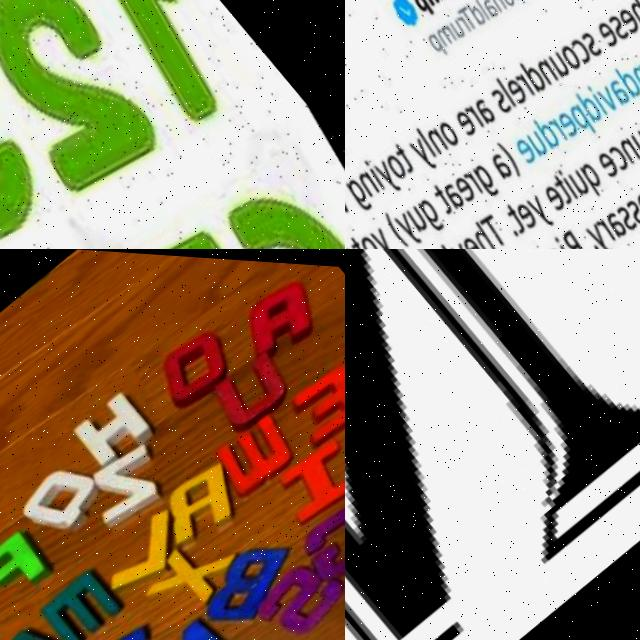1: (45, 0, 277, 130)
2: (0, 0, 198, 214)
3: (0, 0, 86, 249)
6: (182, 131, 345, 249)
7: (82, 189, 345, 249)
A: (229, 260, 329, 362)
B: (185, 517, 302, 636)
E: (280, 346, 345, 449)
F: (0, 518, 51, 605)
G: (288, 483, 345, 591)
H: (61, 374, 161, 476)
I: (270, 421, 345, 527)
K: (0, 608, 76, 640)
L: (92, 501, 189, 599)
M: (36, 561, 123, 640)
N: (345, 249, 640, 640), (143, 601, 240, 640)
O: (145, 309, 244, 411)
Q: (13, 450, 106, 545)
R: (154, 455, 242, 544)
S: (245, 540, 345, 640)
T: (76, 608, 179, 640)
U: (202, 339, 299, 437)
W: (209, 405, 302, 501)
X: (143, 523, 234, 617)
Z: (83, 432, 181, 532)
